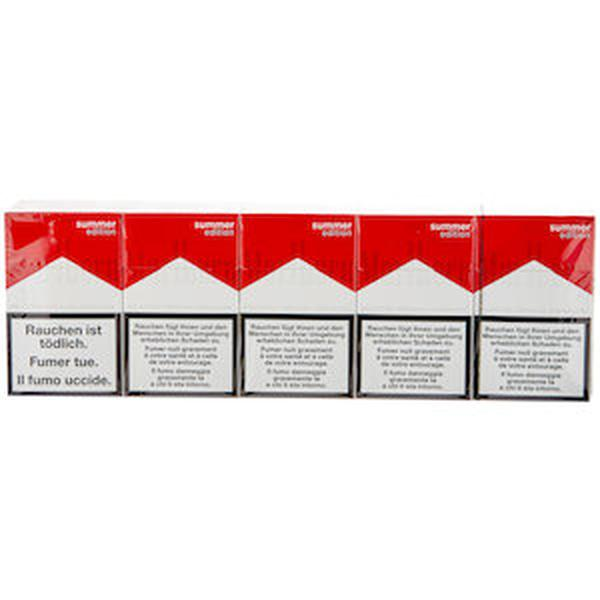marlboro_red: (356, 217, 477, 397), (6, 214, 121, 397), (124, 216, 239, 397), (479, 219, 592, 402), (243, 217, 355, 396)
